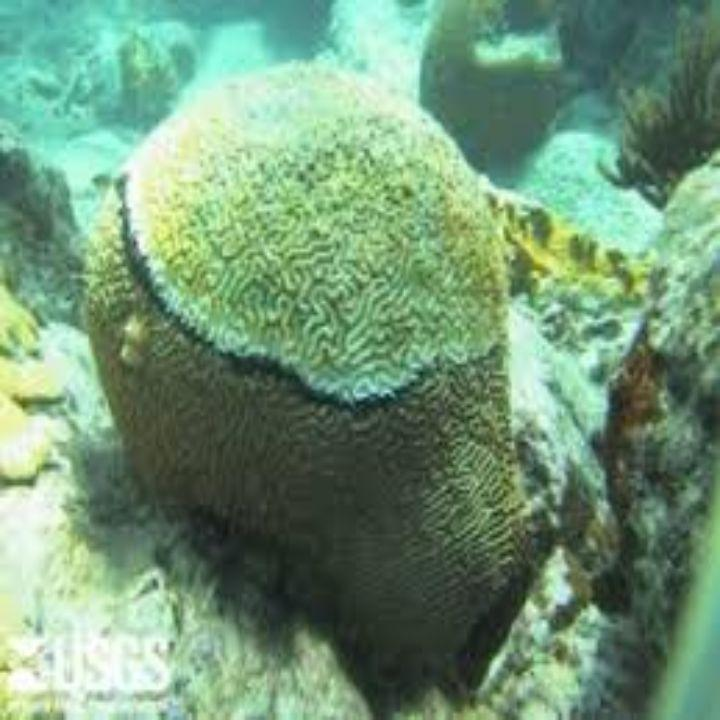Band disease: (73, 20, 575, 428)
